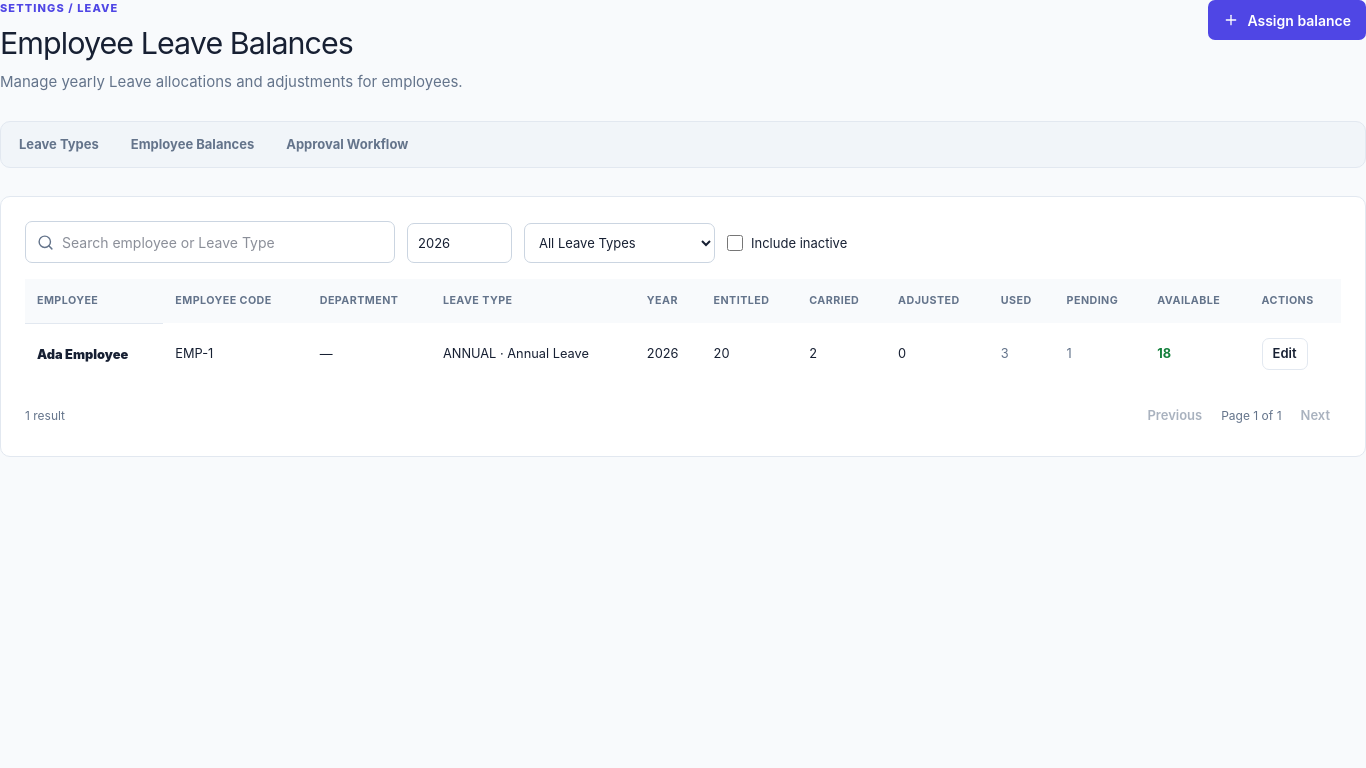
Test: leave configuration frontend › keeps used and pending balance values read-only in the update form
Expected: the text "Ada Employee" is shown, [37, 346, 128, 362]
Click the button "Edit".
click(1285, 354)  # box [1262, 338, 1308, 370]
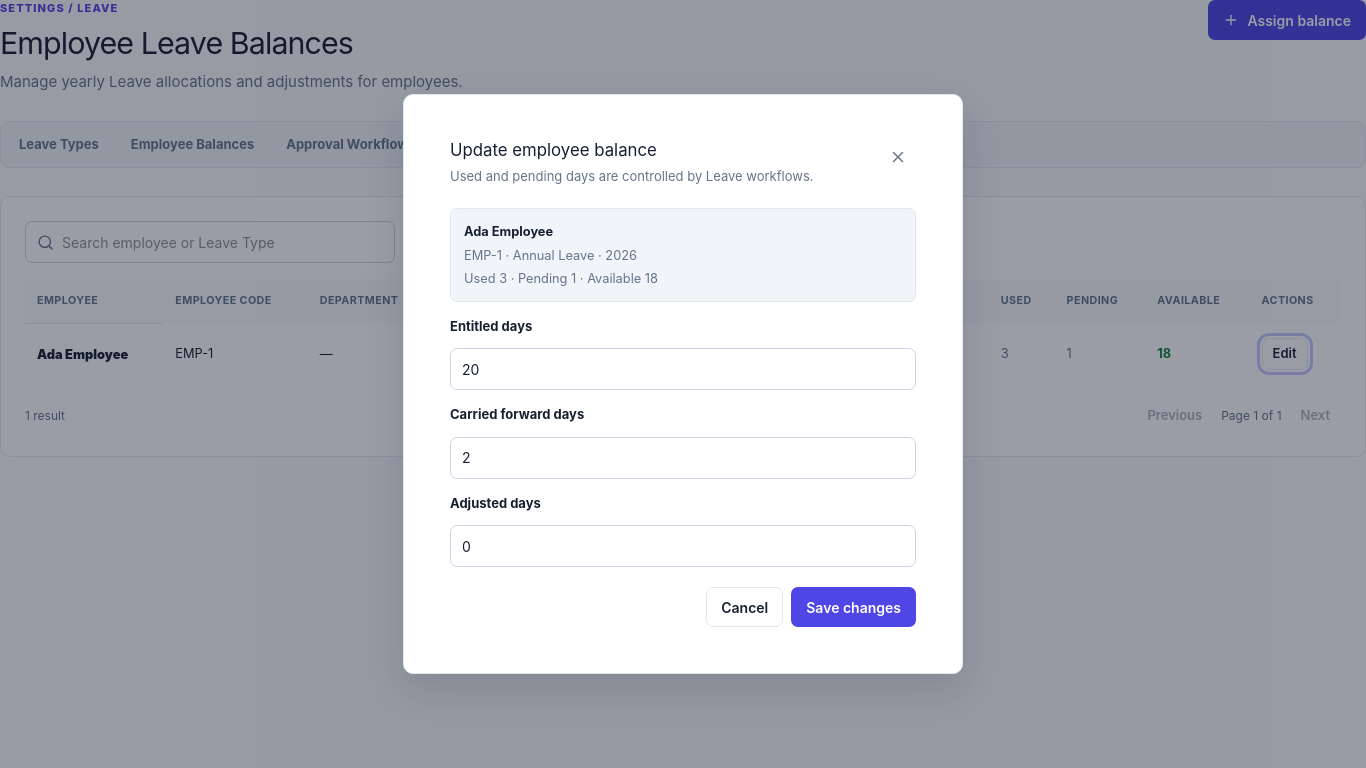
Now the text "Used 3 · Pending 1 · Available 18" is shown, box [464, 271, 658, 286]
Now the dialog is shown, box [403, 94, 963, 674]
